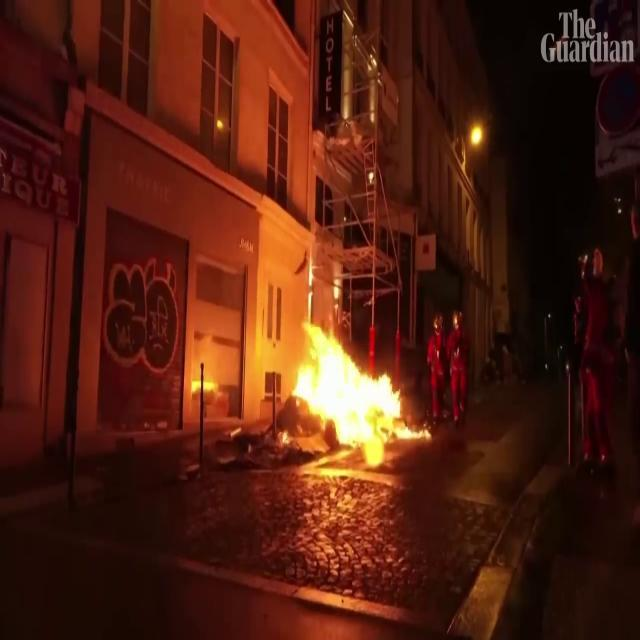Fire: (290, 272, 410, 457)
